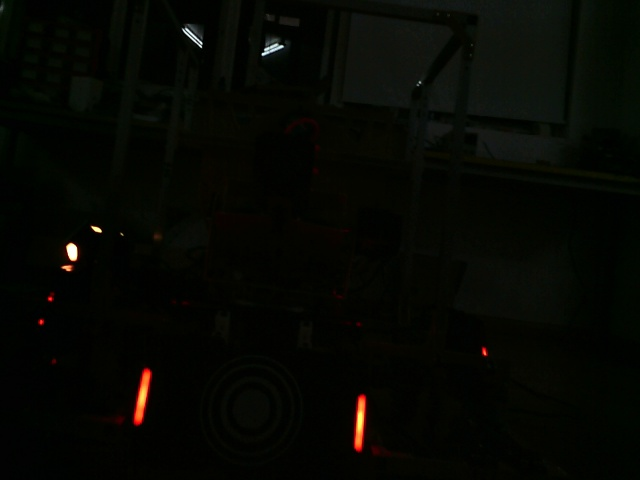lamp: (129, 365, 154, 426), (348, 391, 370, 454)
